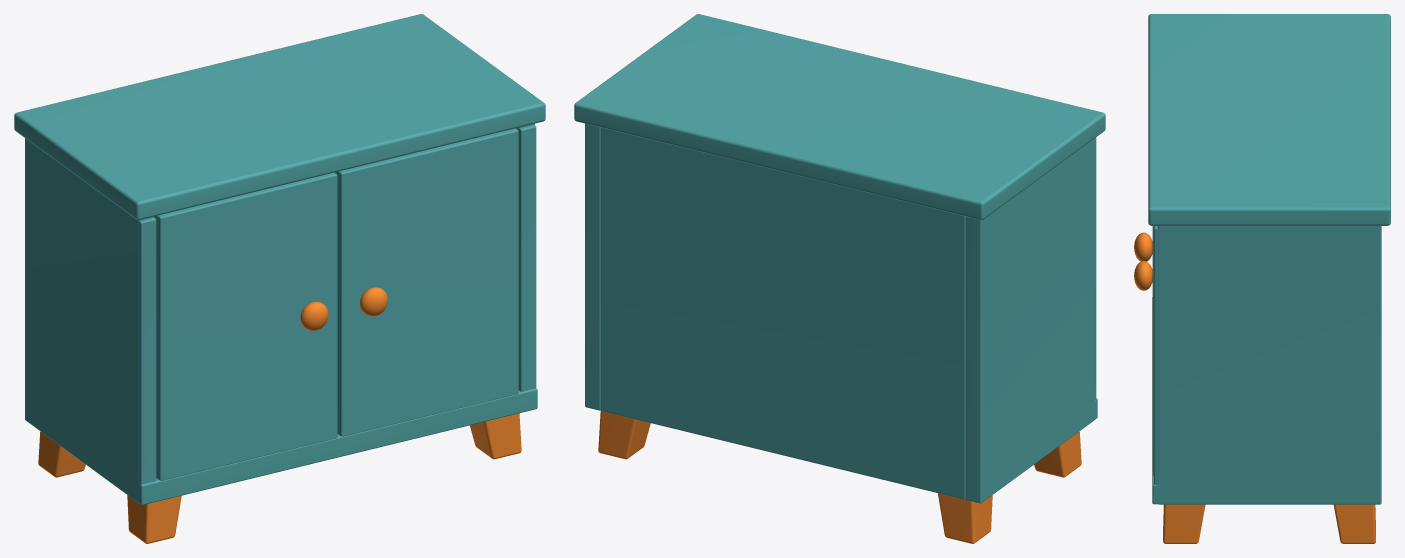
3 views of the same model, side by side, from view 1: azimuth 30°, elevation 25°; view 2: azimuth 150°, elevation 25°; view 3: azimuth 270°, elevation 25° (orthographic). The views are drawn at different scales.
Visible parts, largest first — view 1: reused_Overhanging flat top, reused_Right door, reused_Left door, reused_Left side panel, reused_Front bottom rail, reused_Right front stile, reused_Left front stile, reused_Left front orange foot, reused_Right front orange foot, reused_Left rear orange foot, reused_Left round orange knob, reused_Right round orange knob; view 2: reused_Plain full back, reused_Overhanging flat top, reused_Left side panel, reused_Right side panel, reused_Left rear orange foot, reused_Right rear orange foot, reused_Left front orange foot; view 3: reused_Right side panel, reused_Overhanging flat top, reused_Right front orange foot, reused_Right rear orange foot, reused_Right front stile, reused_Right door, reused_Front bottom rail, reused_Right round orange knob, reused_Left round orange knob.
Part boxes in pixels (<box>): reused_Overhanging flat top: <box>14,14,545,220</box>; reused_Right door: <box>335,128,518,436</box>; reused_Left door: <box>154,172,337,480</box>; reused_Left side panel: <box>25,138,154,502</box>; reused_Front bottom rail: <box>134,388,537,505</box>; reused_Right front stile: <box>516,125,536,391</box>; reused_Left front stile: <box>139,217,156,484</box>; reused_Left front orange foot: <box>127,495,181,543</box>; reused_Right front orange foot: <box>470,413,521,459</box>; reused_Left rear orange foot: <box>38,431,85,477</box>; reused_Left round orange knob: <box>300,301,328,330</box>; reused_Right round orange knob: <box>360,287,387,316</box>; reused_Plain full back: <box>600,127,965,499</box>; reused_Overhanging flat top: <box>574,14,1105,220</box>; reused_Left side panel: <box>965,138,1094,503</box>; reused_Right side panel: <box>585,123,600,410</box>; reused_Left rear orange foot: <box>938,493,992,543</box>; reused_Right rear orange foot: <box>598,410,650,459</box>; reused_Left front orange foot: <box>1034,431,1081,477</box>; reused_Right side panel: <box>1157,226,1381,504</box>; reused_Overhanging flat top: <box>1148,14,1390,225</box>; reused_Right front orange foot: <box>1163,504,1205,543</box>; reused_Right rear orange foot: <box>1333,504,1375,543</box>; reused_Right front stile: <box>1154,226,1158,485</box>; reused_Right door: <box>1152,226,1153,475</box>; reused_Front bottom rail: <box>1152,297,1167,504</box>; reused_Right round orange knob: <box>1134,261,1152,290</box>; reused_Left round orange knob: <box>1134,232,1152,261</box>.
Bounding box in the file's own units: 1.24 × 1.02 × 0.688.
